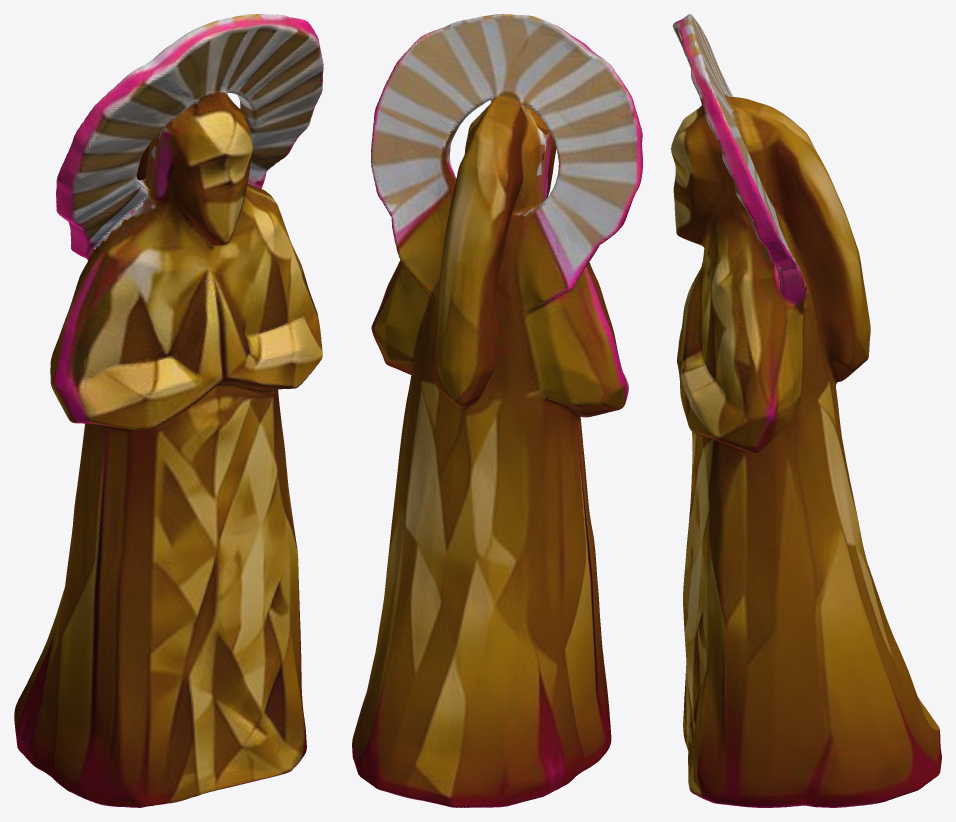
The model's file is MIRRORSAINT.glb.
3 views of the same model, side by side, from view 1: azimuth 30°, elevation 25°; view 2: azimuth 150°, elevation 25°; view 3: azimuth 270°, elevation 25° (orthographic). The views are drawn at different scales.
Parts seen in each view (by area): view 1: MIRRORSAINT_512; view 2: MIRRORSAINT_512; view 3: MIRRORSAINT_512.
Part boxes in pixels (x1,y1,x2,y2): MIRRORSAINT_512: [14, 14, 323, 807]; MIRRORSAINT_512: [352, 14, 642, 807]; MIRRORSAINT_512: [671, 14, 941, 807].
Size of the model in its own units: 0.7483 by 1.99 by 0.6663.
Materials: 1 (1 with a texture image).
